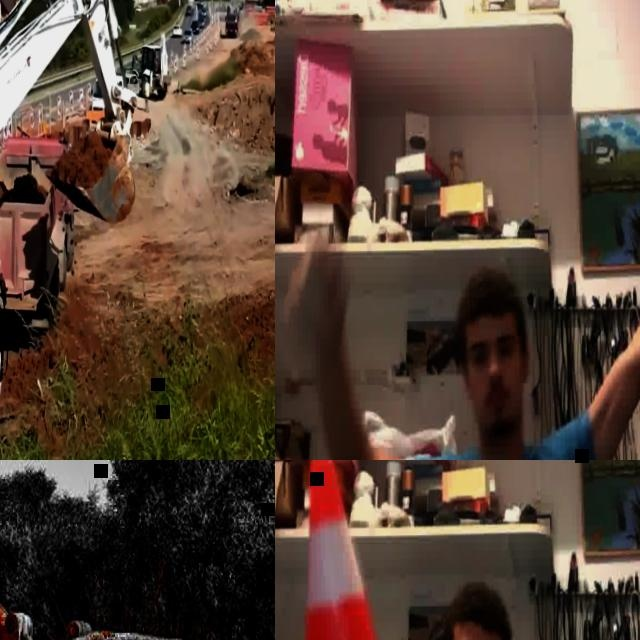NO-Hardhat: (456, 269, 515, 328), (447, 583, 509, 637)
NO-Mask: (475, 382, 518, 436)
Person: (282, 156, 640, 460), (275, 579, 553, 640), (144, 77, 150, 112), (154, 53, 158, 70)
Safety Cone: (279, 460, 392, 640)
Safety Vest: (144, 82, 149, 95)
machinery: (0, 0, 141, 460), (0, 460, 275, 640), (0, 132, 76, 348), (131, 29, 173, 98), (225, 10, 238, 37)
vehicle: (90, 72, 122, 121), (124, 69, 140, 94), (182, 27, 194, 42), (190, 19, 199, 34), (197, 16, 207, 28), (173, 24, 182, 36), (199, 6, 206, 16), (186, 4, 192, 15), (200, 0, 203, 5)
